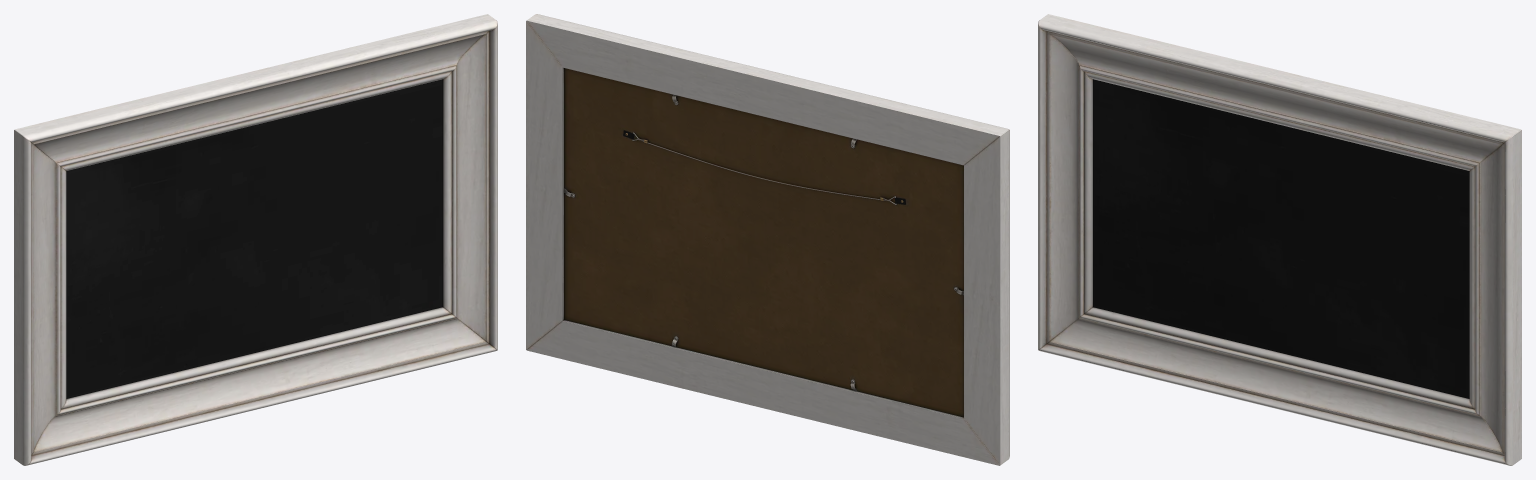
Rendered from hanging_picture_frame_02.gltf.
The picture shows the model from 3 angles, left to right: view 1: azimuth 30°, elevation 25°; view 2: azimuth 150°, elevation 25°; view 3: azimuth 330°, elevation 25°; orthographic projection.
Visible parts, largest first — view 1: hanging_picture_frame_02; view 2: hanging_picture_frame_02; view 3: hanging_picture_frame_02.
Part boxes in pixels (left/top/right/bottom): hanging_picture_frame_02: left=14, top=14, right=497, bottom=465; hanging_picture_frame_02: left=526, top=14, right=1009, bottom=465; hanging_picture_frame_02: left=1038, top=14, right=1521, bottom=465.
Bounding box in the file's own units: 0.7518 × 0.5 × 0.033.
3 materials, 3 textured.
